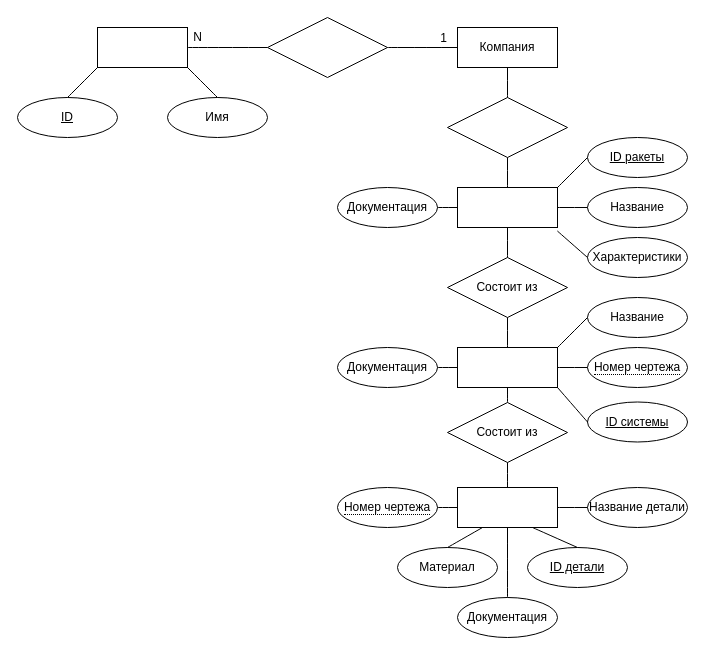
The diagram is 705 pixels wide and 655 high, and some of its shapes have lost their labels. The centre of each missing label's shape, as x and y in pixels:
"Делает заказ" belongs at (327,47).
"Детали" belongs at (507,507).
"Заказчик" belongs at (142,47).
"Ракета" belongs at (507,207).
"Системы" belongs at (507,367).
"Строит" belongs at (507,127).
